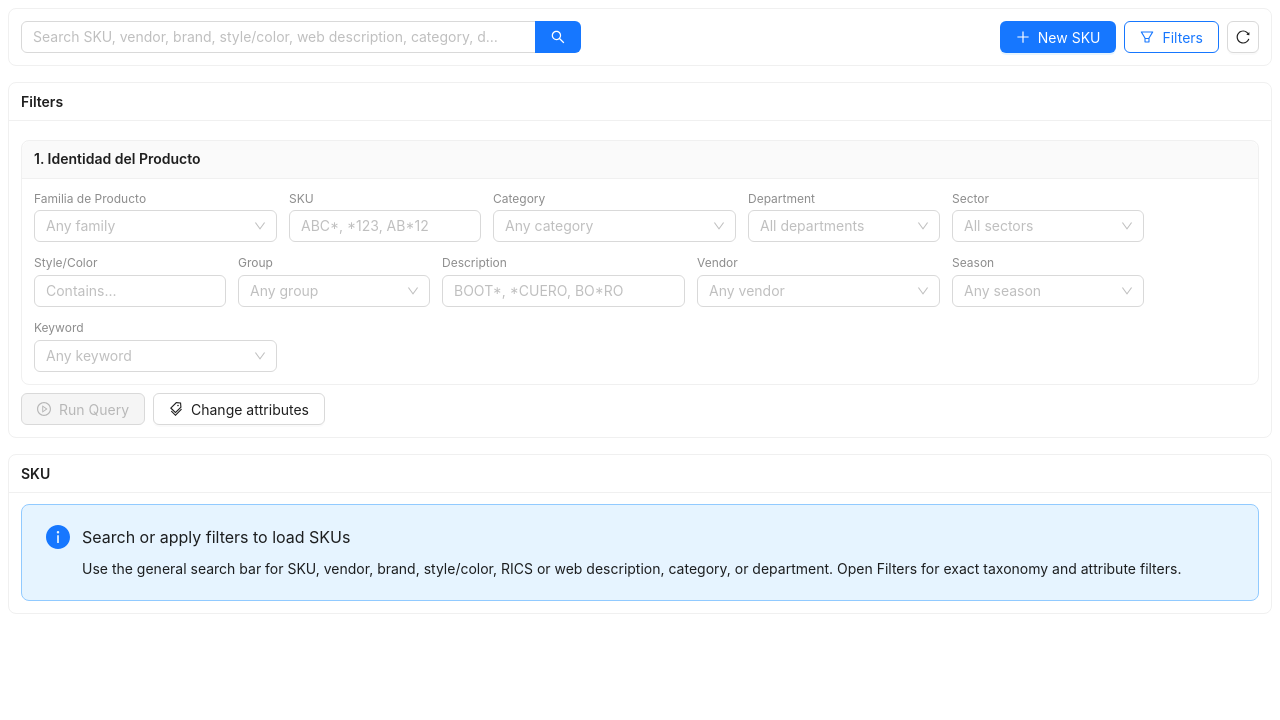
Test: SkuListPage bulk mode › opens bulk-change controls for users with SKU bulk-write permission
Click the button "Change attributes": (239, 409) [153,393,325,425]
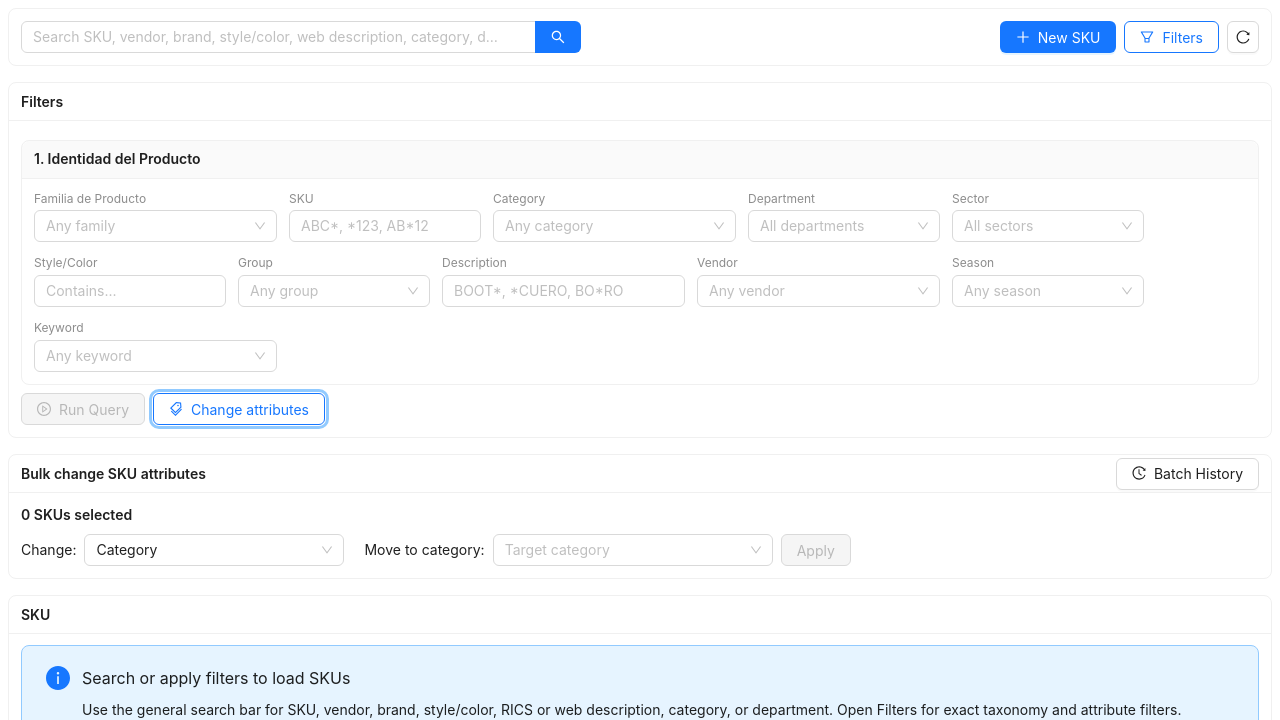
Now the text "Bulk change SKU attributes" is shown, box [21,464,206,482]
Now the text "0 SKUs selected" is shown, box [21,506,132,523]
Now the text "Change:" is shown, box [21,541,76,558]
